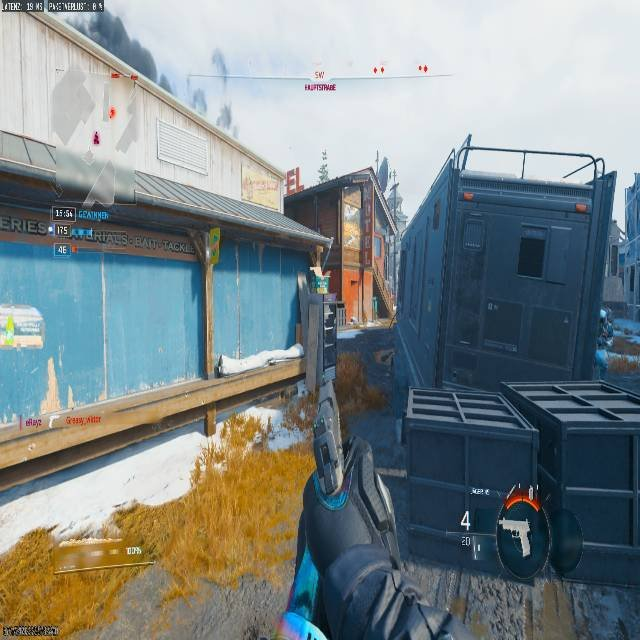head: (335, 351, 360, 378), (599, 308, 608, 321)
player: (594, 308, 615, 380)
